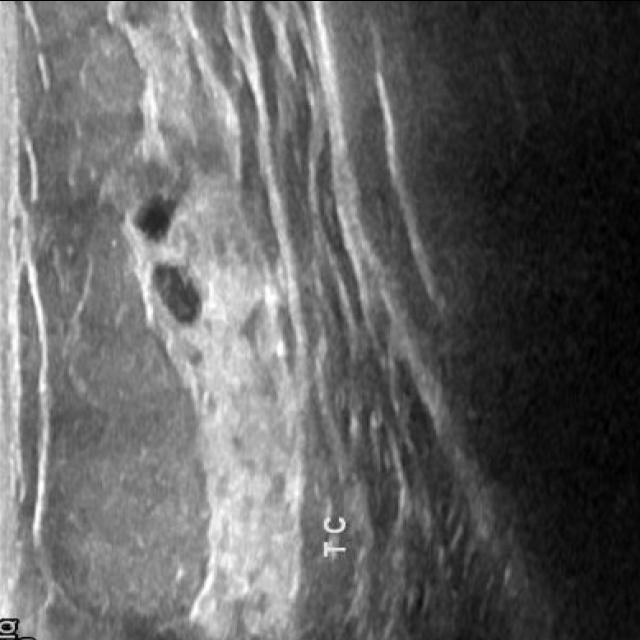Benign: (147, 260, 205, 322)
